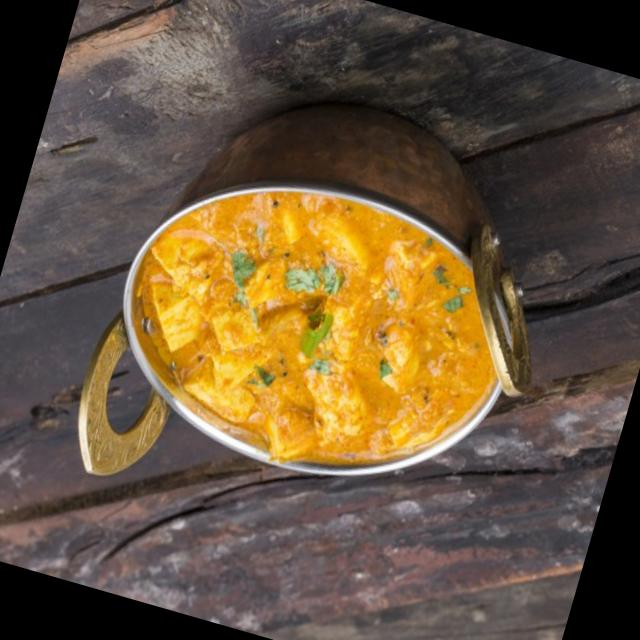ShahiPaneer: (97, 140, 536, 517)
